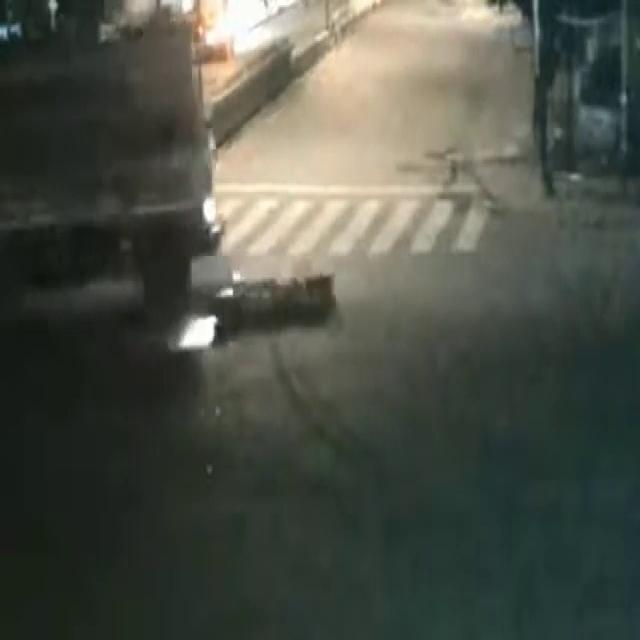accident: (0, 85, 334, 392)
